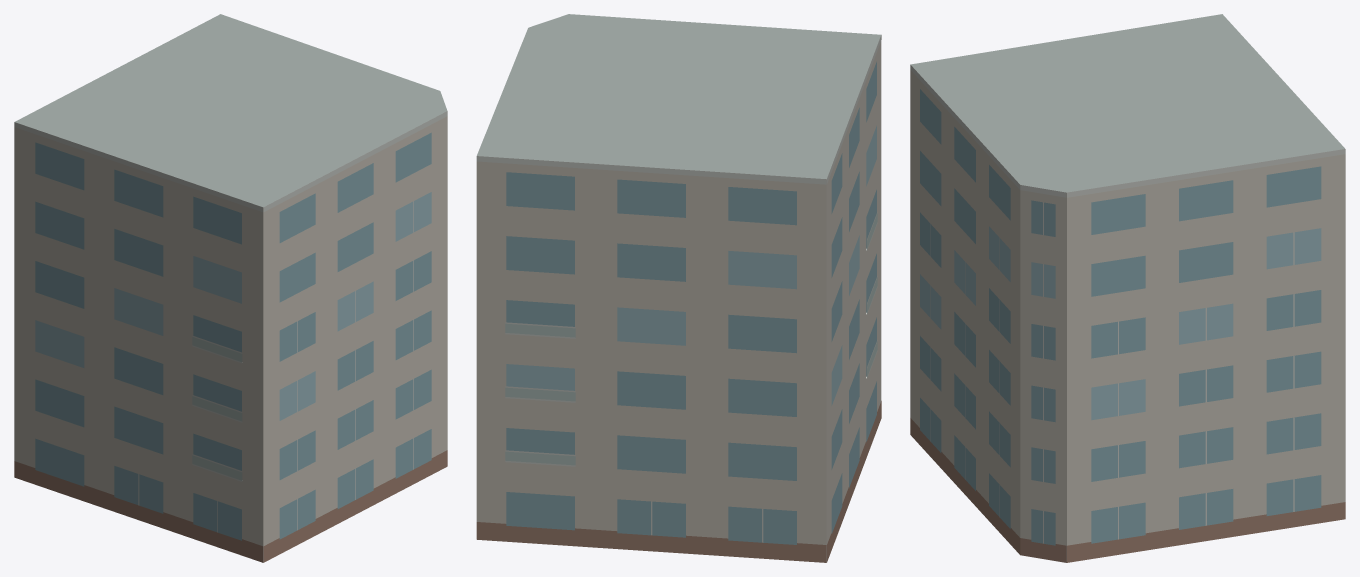
The model's file is survey-upis-32864824.glb.
The picture shows the model from 3 angles, left to right: view 1: azimuth 30°, elevation 25°; view 2: azimuth 150°, elevation 25°; view 3: azimuth 270°, elevation 25°; orthographic projection. The views are drawn at different scales.
Parts seen in each view (by area): view 1: survey-upis-32864824.tmp; view 2: survey-upis-32864824.tmp; view 3: survey-upis-32864824.tmp.
Part boxes in pixels (left/top/right/bottom): survey-upis-32864824.tmp: left=14, top=14, right=447, bottom=562; survey-upis-32864824.tmp: left=476, top=14, right=881, bottom=562; survey-upis-32864824.tmp: left=910, top=14, right=1345, bottom=562.
Size of the model in its own units: 17.8 by 17.2 by 18.33.
